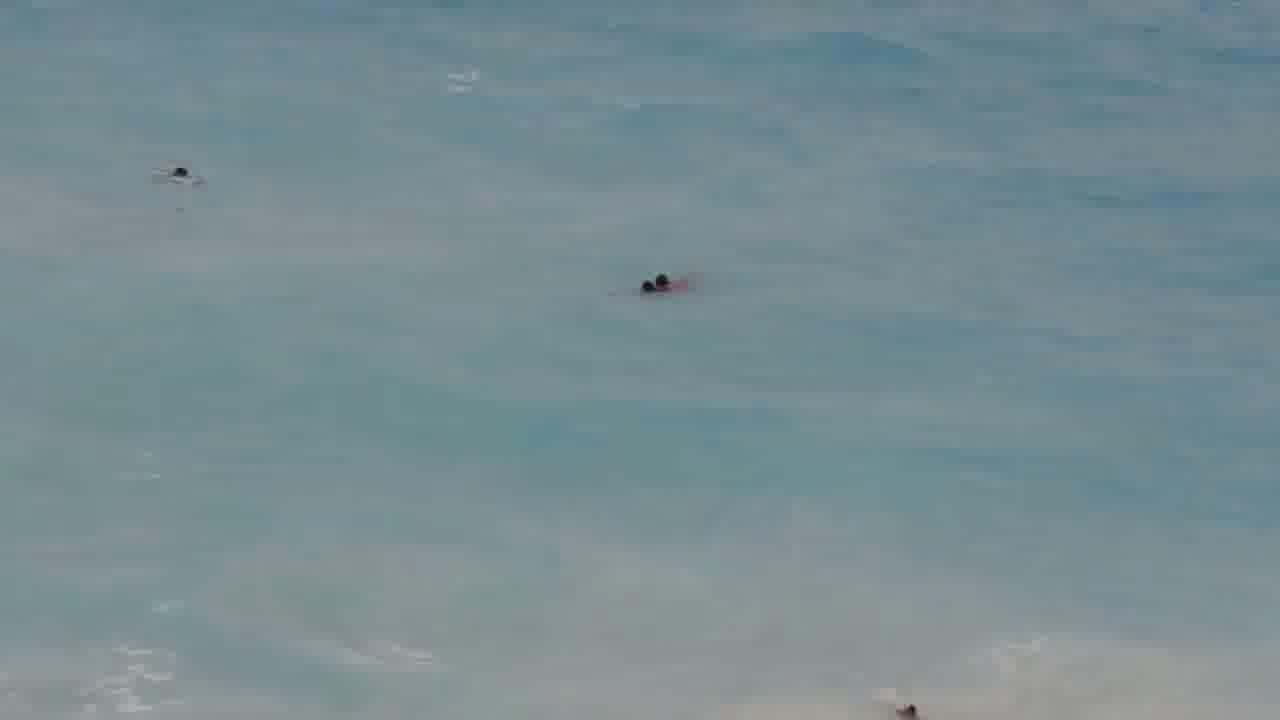swimmer: (893, 689, 925, 720), (652, 255, 675, 294), (163, 159, 197, 182), (634, 269, 654, 302)
